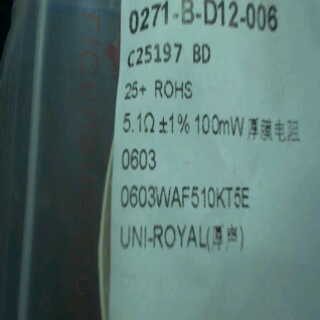5.1R: (121, 107, 159, 140)
